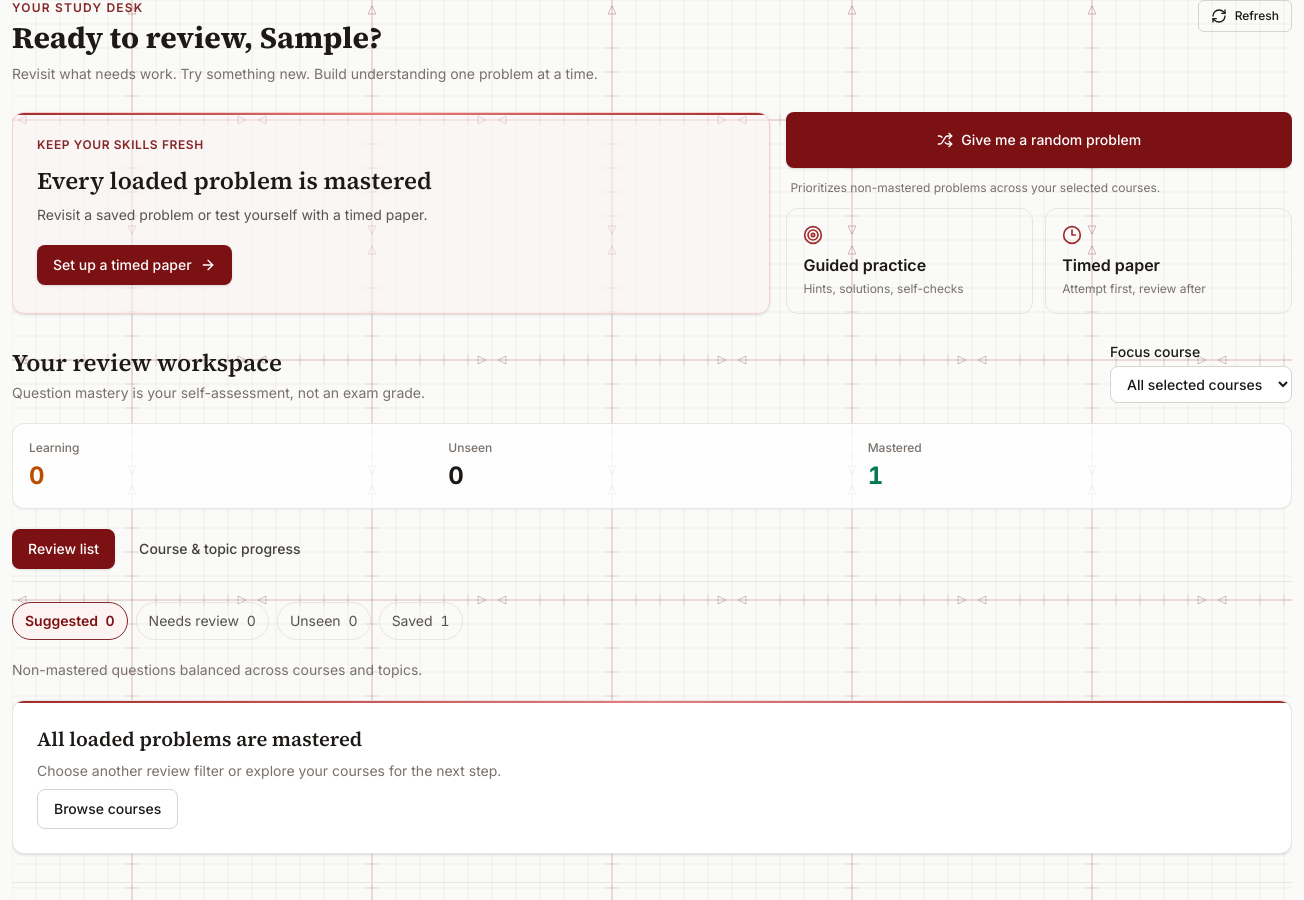
Test case: preserves saved mastered questions and recovers invalid filters
This screenshot has width=1304, height=900.
Click the button "Saved 1" at coordinates (421, 621), box [379,602,463,640]
(page scrolled)
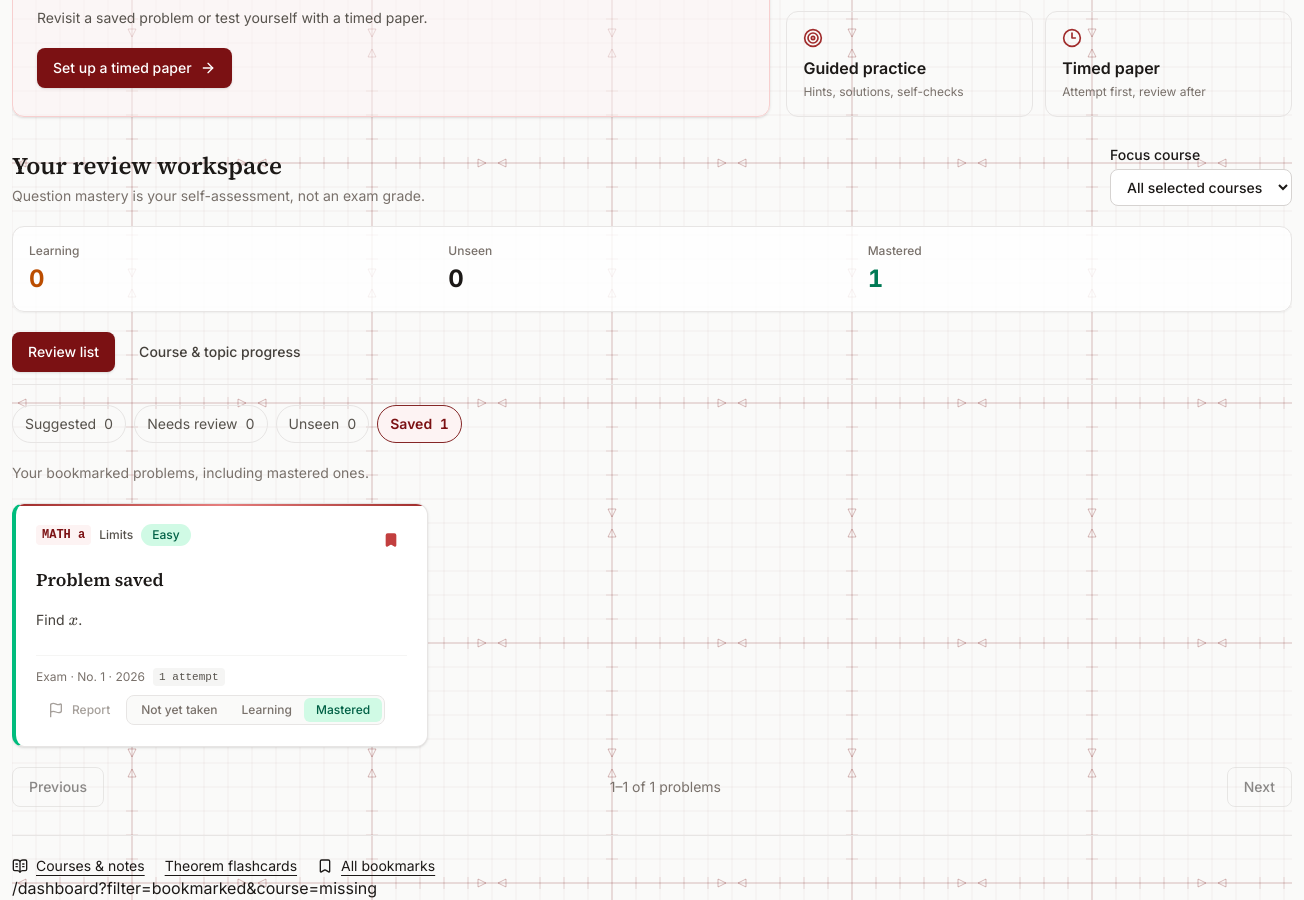
Result: the link "Problem saved" is shown at [36,568,164,592]
Result: the button "Previous" is disabled at [12,768,104,808]
